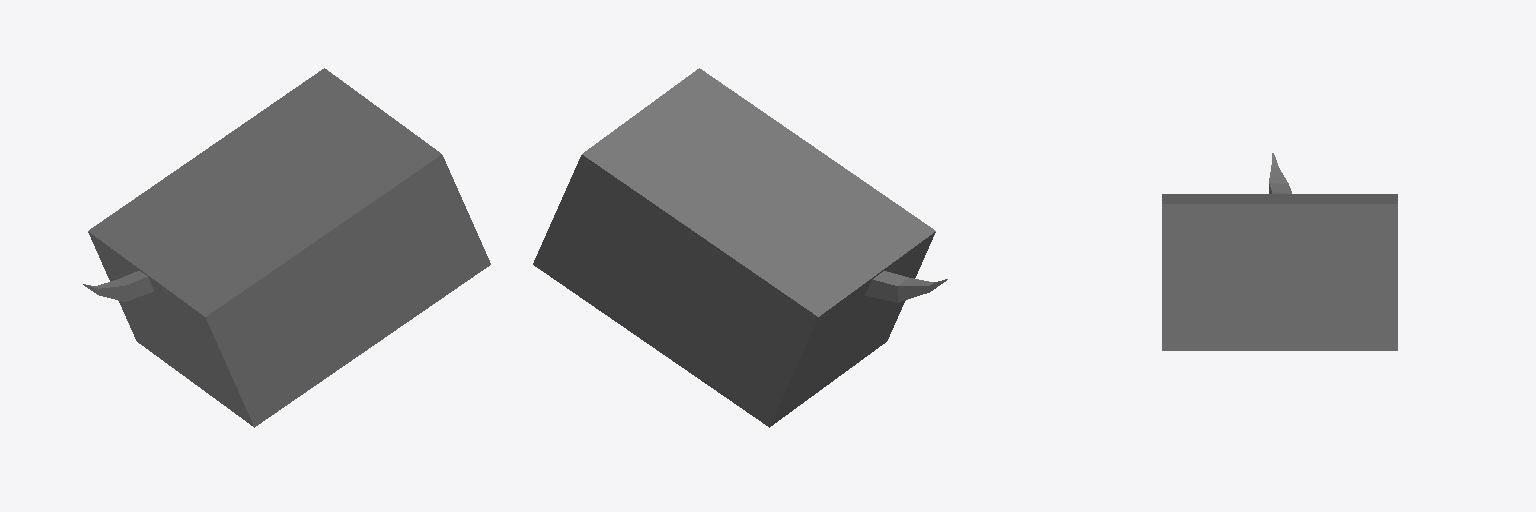
File: godard_cuerpo.obj
The picture shows the model from 3 angles: view 1: azimuth 30°, elevation 25°; view 2: azimuth 150°, elevation 25°; view 3: azimuth 270°, elevation 25°; orthographic projection.
Parts seen in each view (by area): view 1: Cuerpo, Cuerpo001; view 2: Cuerpo, Cuerpo001; view 3: Cuerpo.
Part boxes in pixels (left/top/right/bottom): Cuerpo: left=88, top=68, right=490, bottom=427; Cuerpo001: left=83, top=271, right=153, bottom=301; Cuerpo: left=533, top=68, right=935, bottom=427; Cuerpo001: left=865, top=271, right=947, bottom=302; Cuerpo: left=1162, top=194, right=1397, bottom=350.
Size of the model in its own units: 4.27 by 2.63 by 2.47.